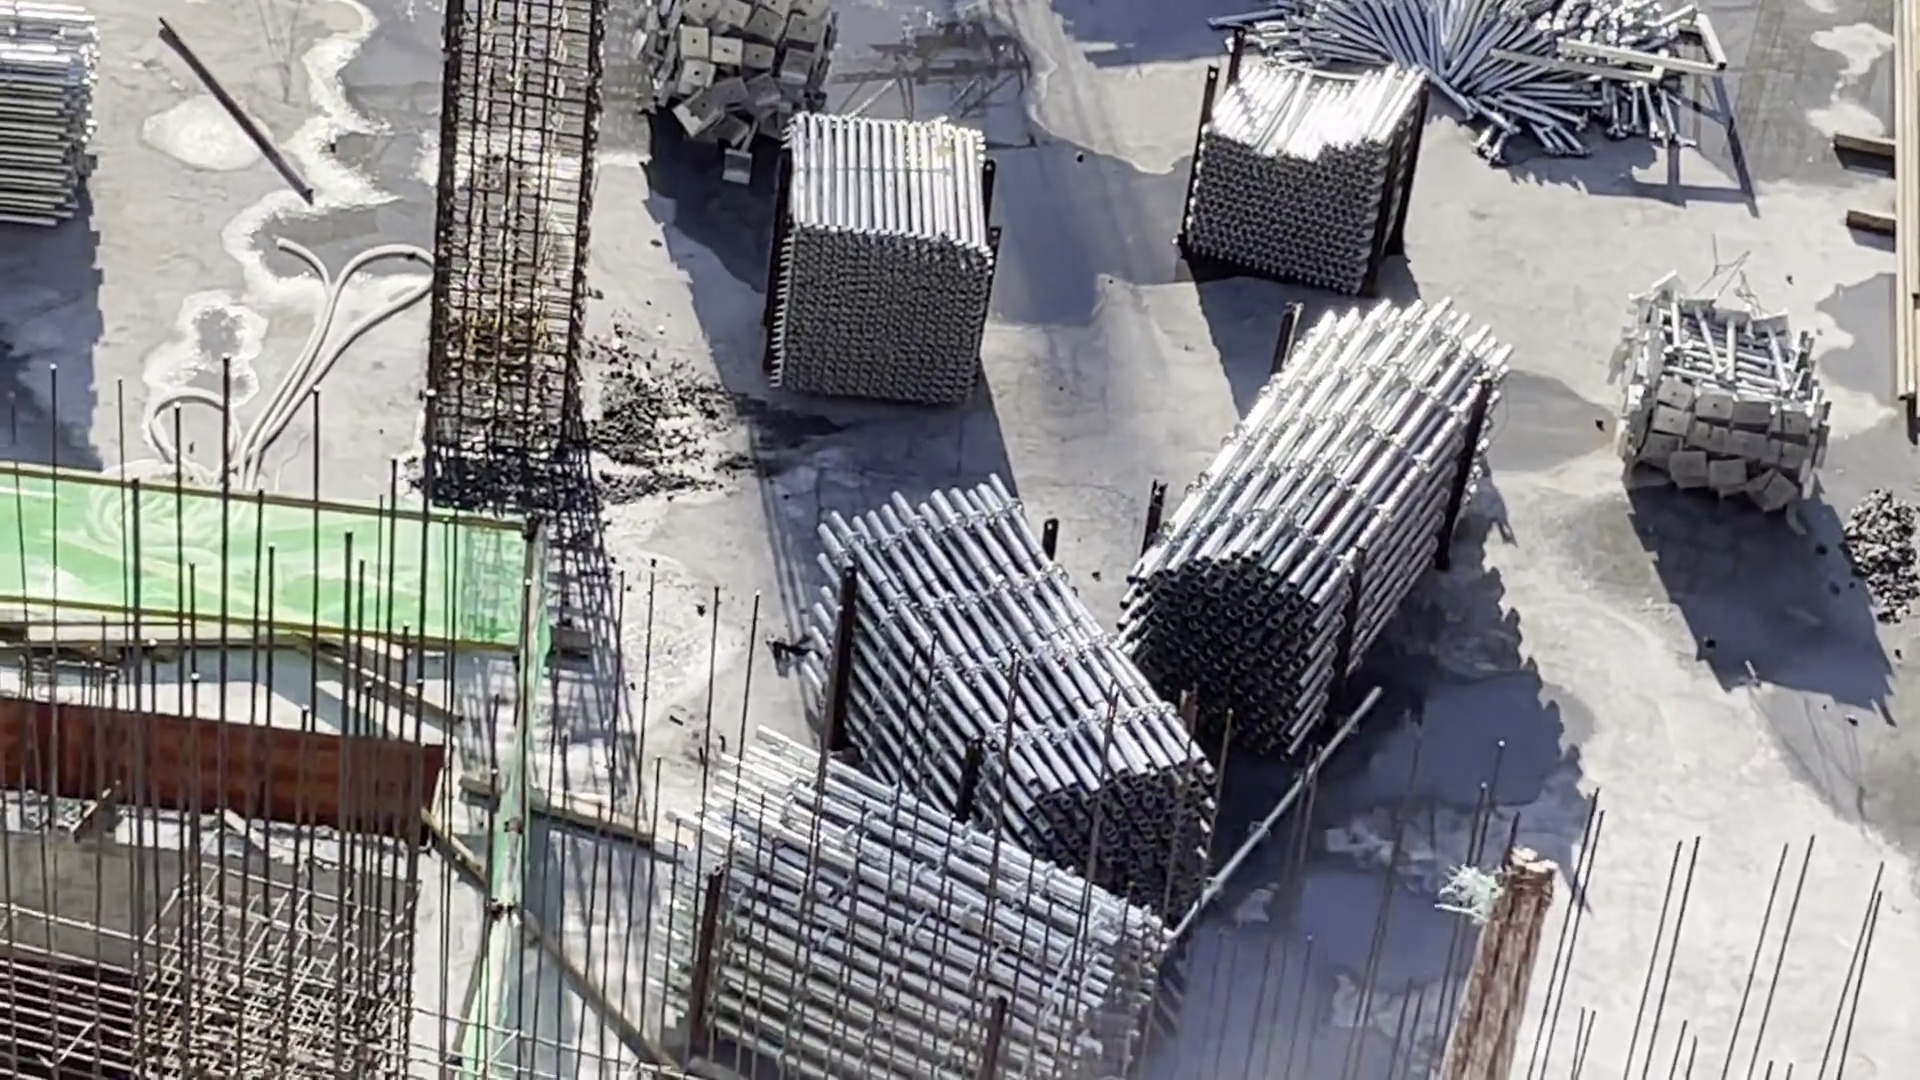scaffold: (666, 740, 1216, 1080), (819, 500, 1218, 935), (1139, 285, 1491, 756), (750, 111, 996, 397), (1323, 1, 1724, 152), (1606, 270, 1840, 524), (1185, 40, 1408, 291), (650, 1, 823, 175), (1, 1, 115, 241)
